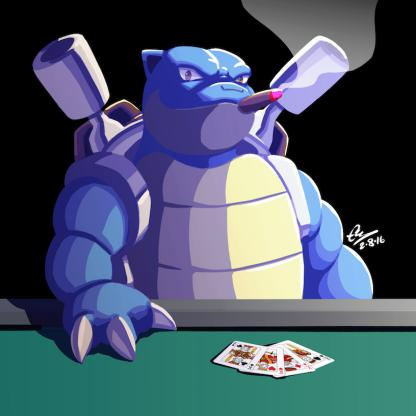Blastoise: (14, 28, 406, 345)
